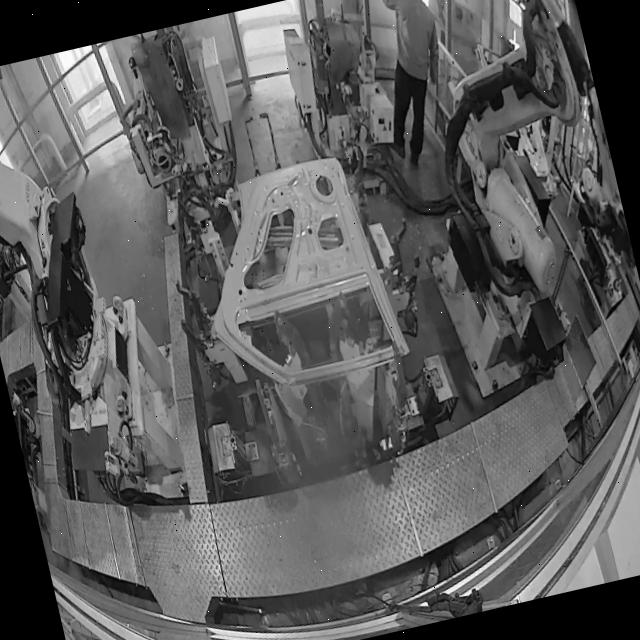Person: (351, 0, 467, 172)
